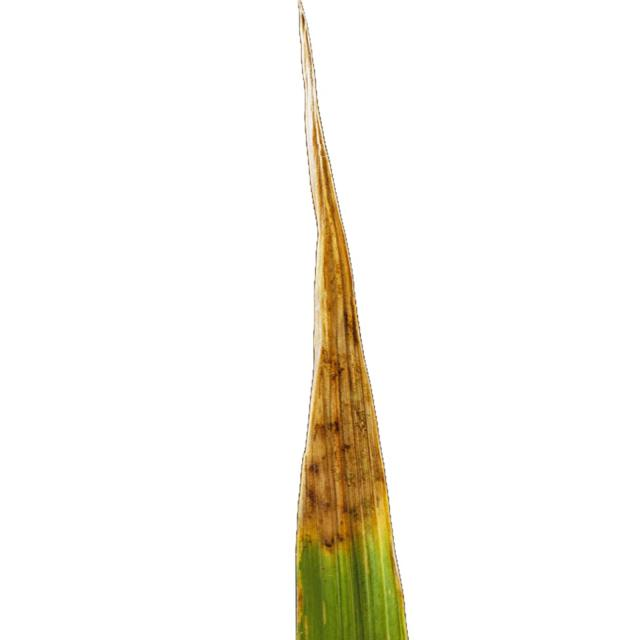Leaf scald: (227, 16, 494, 640)
